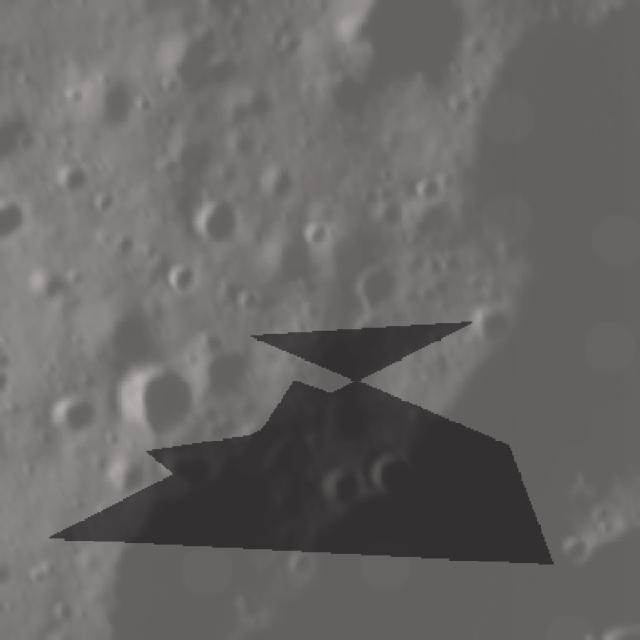crater: (328, 0, 474, 91), (110, 353, 204, 438), (162, 24, 252, 99), (345, 251, 404, 320), (87, 66, 141, 137), (183, 192, 246, 251), (363, 445, 422, 501), (42, 394, 100, 444), (468, 300, 518, 354), (0, 185, 37, 250), (308, 472, 364, 514), (412, 169, 454, 209), (299, 217, 341, 255), (165, 265, 208, 300), (48, 164, 90, 199), (237, 284, 271, 324), (133, 88, 165, 121), (0, 361, 15, 406)
